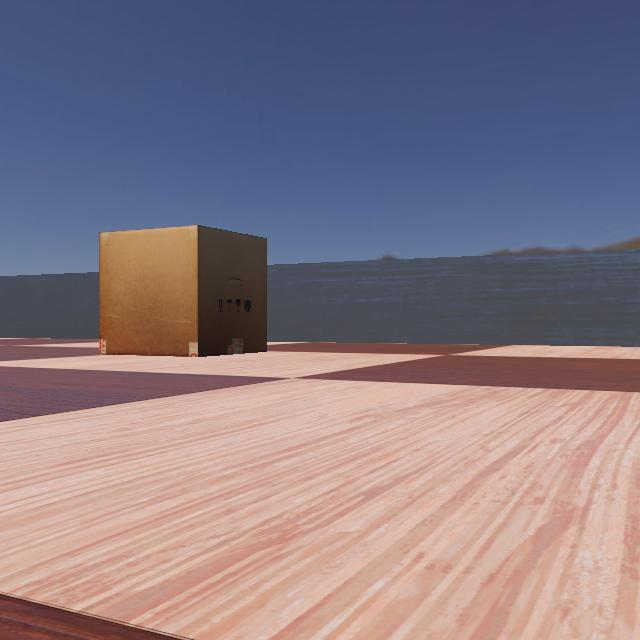cardboard-box: (80, 224, 270, 356)
